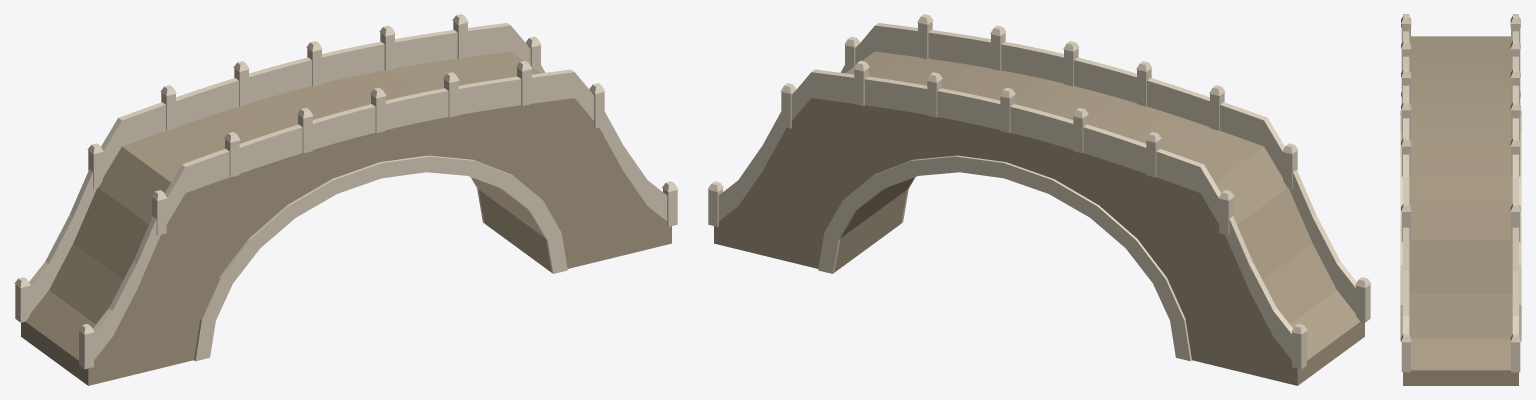
File: K11a_far.glb
The picture shows the model from 3 angles, left to right: view 1: azimuth 30°, elevation 25°; view 2: azimuth 150°, elevation 25°; view 3: azimuth 270°, elevation 25°; orthographic projection. The views are drawn at different scales.
Visible parts, largest first — view 1: K11a_far; view 2: K11a_far; view 3: K11a_far.
Part boxes in pixels (left/top/right/bottom): K11a_far: left=14, top=14, right=678, bottom=385; K11a_far: left=707, top=14, right=1371, bottom=385; K11a_far: left=1400, top=14, right=1521, bottom=385.
Bounding box in the file's own units: 20.36 × 7.33 × 4.18.
